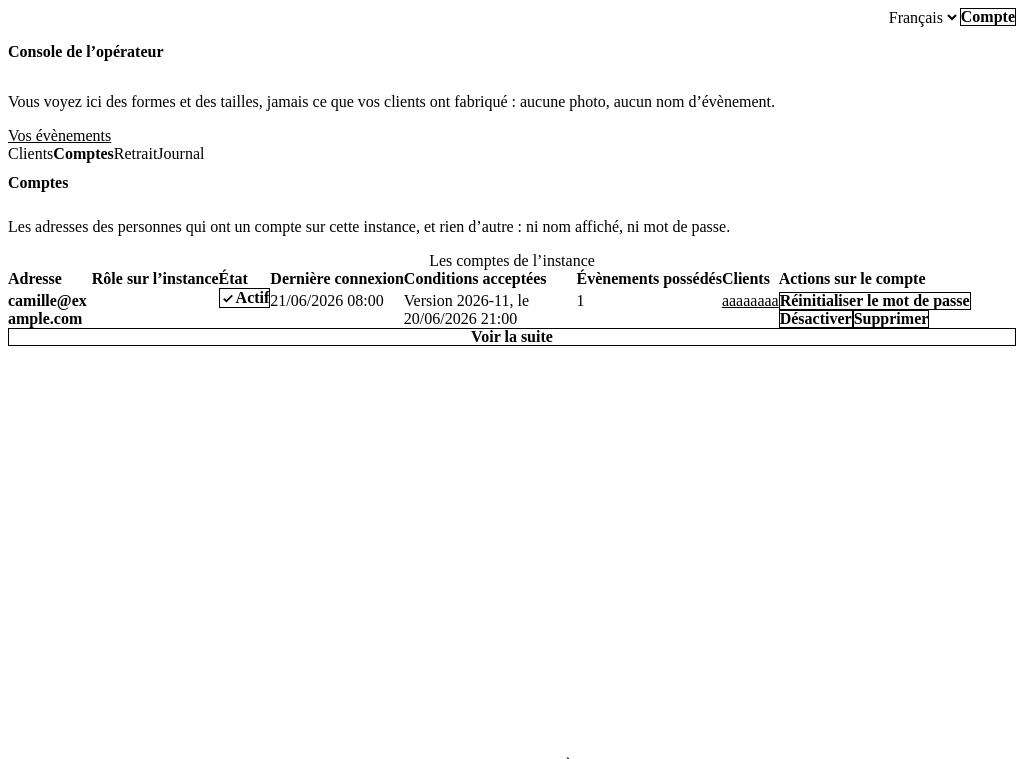
Test: the console’s accounts: reading them › reads the next page with the cursor the server gave
Click the button "Voir la suite": coordinates (512, 337) x1=8 y1=328 x2=1016 y2=346
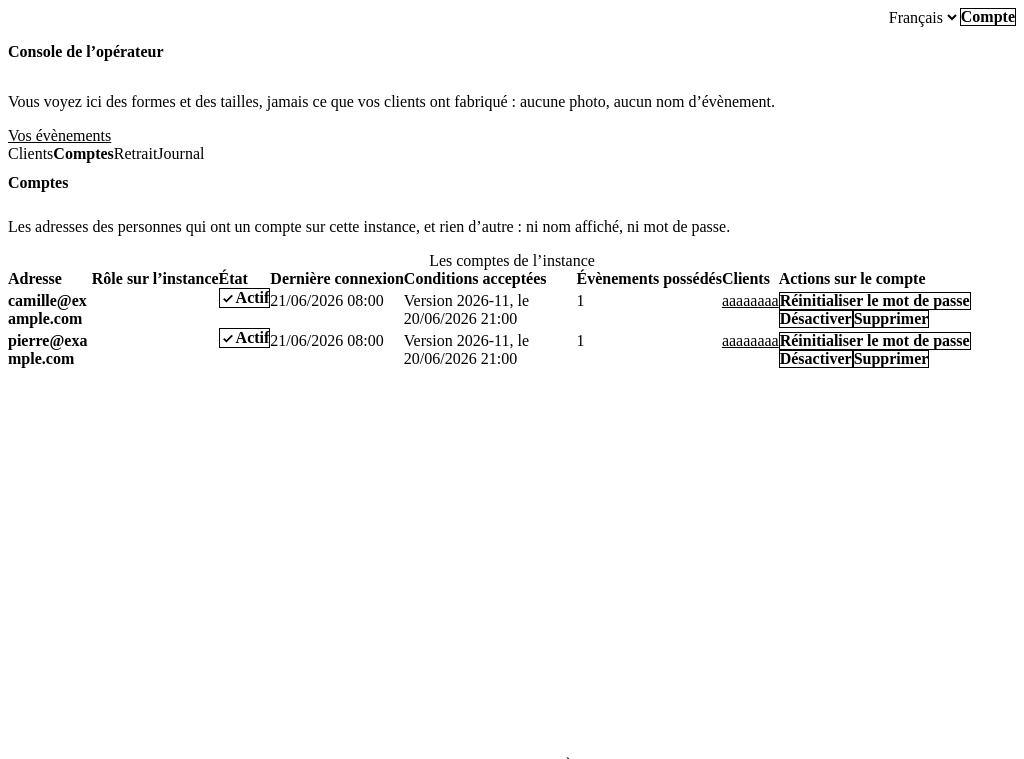
Check: the column heading "pierre@example.com" is shown, box x1=8 y1=328 x2=92 y2=368
